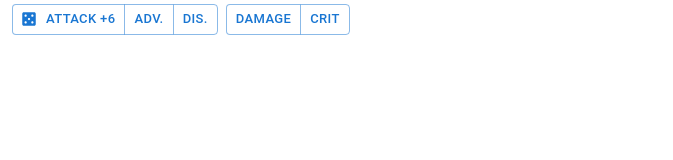
Scenario: AttackRoller › rolls with advantage and with disadvantage, and shows both dice
The width and height of the screenshot is (673, 160).
What coordinates should you click on to do the following:
click the button with aria-label "Roll attack for Club with advantage"
I would click on:
 (149, 19)
Its box is x1=124 y1=4 x2=174 y2=35.
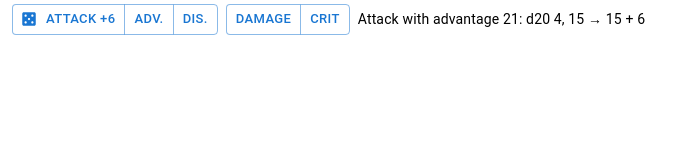
Expected: the message reads "Attack with advantage 21: d20 4, 15 → 15 + 6", x1=358 y1=11 x2=645 y2=27
What coordinates should you click on to do the following:
click the button with aria-label "Roll attack for Club with disadvantage"
I would click on:
 (195, 19)
Its box is x1=173 y1=4 x2=218 y2=35.
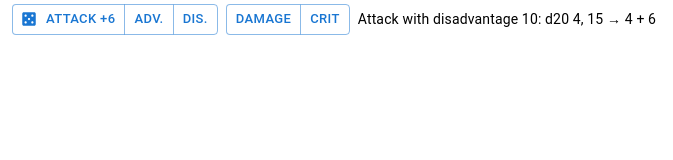
Expected: the message reads "Attack with disadvantage 10: d20 4, 15 → 4 + 6", x1=358 y1=11 x2=656 y2=27
